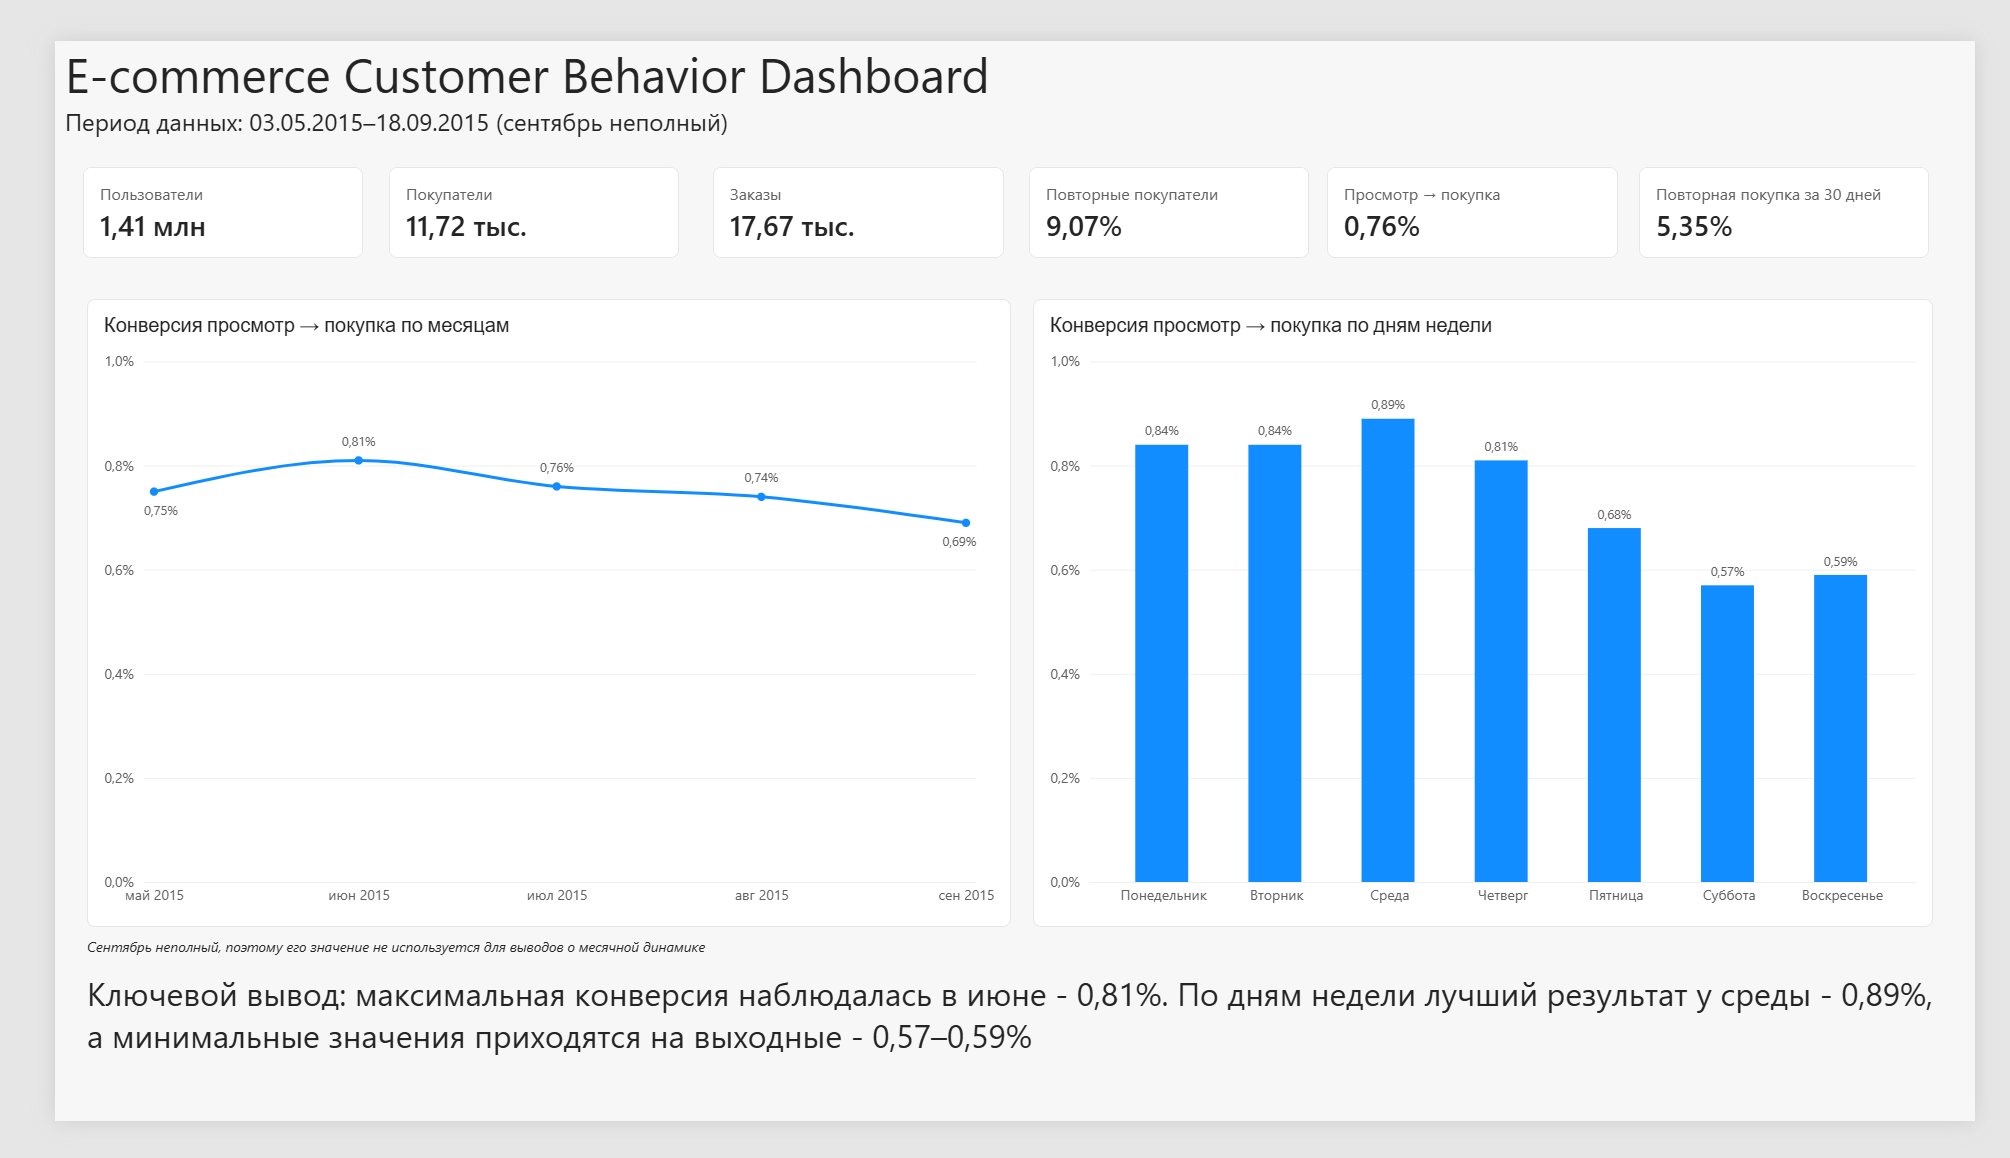

This screenshot's page, from the dashboard's own definition file:
{"tool":"powerbi","page":{"name":"Overview","canvas":[1920,1080],"ordinal":0},"visuals":[{"type":"textbox","box":[10,20,984,114],"z":0},{"type":"cardVisual","fields":{"Data":["Sum(KPI Overview.users_count)"]},"box":[27.2,126.8,280,91.7],"z":1000},{"type":"cardVisual","fields":{"Data":["Sum(KPI Overview.buyers_count)"]},"box":[333.8,126.8,290,91.7],"z":2000},{"type":"cardVisual","fields":{"Data":["Sum(KPI Overview.orders_count)"]},"box":[658.8,126.8,291.7,91.7],"z":3000},{"type":"cardVisual","fields":{"Data":["Sum(KPI Overview.repeat_buyers_share)"]},"box":[973,126,280,91.7],"z":4000},{"type":"cardVisual","fields":{"Data":["Sum(KPI Overview.repeat_purchase_30d)"]},"box":[1583,126,290,91.7],"z":5000},{"type":"cardVisual","fields":{"Data":["Sum(KPI Overview.view_to_purchase_rate)"]},"box":[1271,126,291.7,91.7],"z":6000},{"type":"lineChart","title":"Конверсия просмотр → покупка по месяцам","fields":{"Category":["Funnel by Month.view_month"],"Y":["Sum(Funnel by Month.view_to_purchase_rate)"]},"box":[32,258,924,628],"z":7000},{"type":"clusteredColumnChart","title":"Конверсия просмотр → покупка по дням недели","fields":{"Category":["Funnel by Weekday.weekday"],"Y":["Sum(Funnel by Weekday.view_to_purchase_rate)"]},"box":[978,258,900,628],"z":8000},{"type":"textbox","box":[31.4,895.7,924.3,25.7],"z":9000},{"type":"textbox","box":[32,930,1846,150],"z":10000}]}

Visuals, with their boxes in screenshot pixels (x1, y1, x2, y2), scaled from the page's 1920x1080 canvas onto the 2010x1158 screenshot:
textbox: left=10, top=21, right=1041, bottom=144
cardVisual - Sum(KPI Overview.users_count): left=28, top=136, right=322, bottom=234
cardVisual - Sum(KPI Overview.buyers_count): left=349, top=136, right=653, bottom=234
cardVisual - Sum(KPI Overview.orders_count): left=690, top=136, right=995, bottom=234
cardVisual - Sum(KPI Overview.repeat_buyers_share): left=1019, top=135, right=1312, bottom=233
cardVisual - Sum(KPI Overview.repeat_purchase_30d): left=1657, top=135, right=1961, bottom=233
cardVisual - Sum(KPI Overview.view_to_purchase_rate): left=1331, top=135, right=1636, bottom=233
"Конверсия просмотр → покупка по месяцам" lineChart: left=34, top=277, right=1001, bottom=950
"Конверсия просмотр → покупка по дням недели" clusteredColumnChart: left=1024, top=277, right=1966, bottom=950
textbox: left=33, top=960, right=1000, bottom=988
textbox: left=34, top=997, right=1966, bottom=1157
